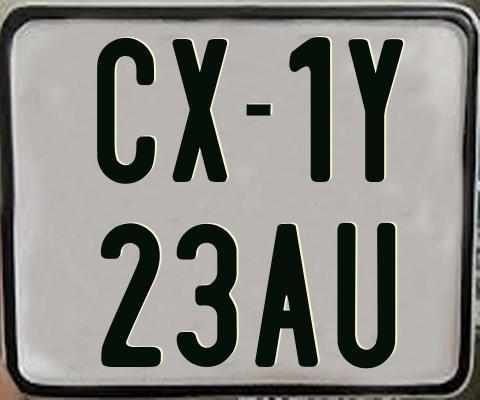1: (289, 34, 336, 182)
2: (100, 222, 160, 370)
3: (176, 221, 243, 370)
A: (254, 221, 320, 370)
C: (97, 35, 156, 187)
U: (337, 222, 398, 368)
X: (169, 36, 225, 184)
Y: (346, 37, 405, 180)
